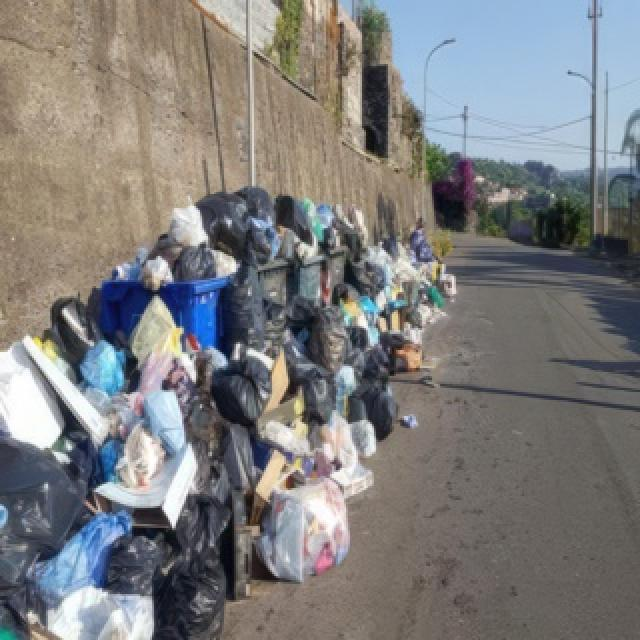Trashbag: (2, 444, 89, 566), (151, 558, 226, 639), (174, 492, 237, 562), (103, 533, 171, 591), (212, 362, 271, 422), (222, 272, 270, 345), (202, 192, 252, 256), (309, 309, 352, 367), (291, 374, 336, 426), (357, 383, 395, 434), (173, 246, 217, 285), (246, 183, 281, 231), (280, 198, 312, 242), (369, 346, 398, 387)
